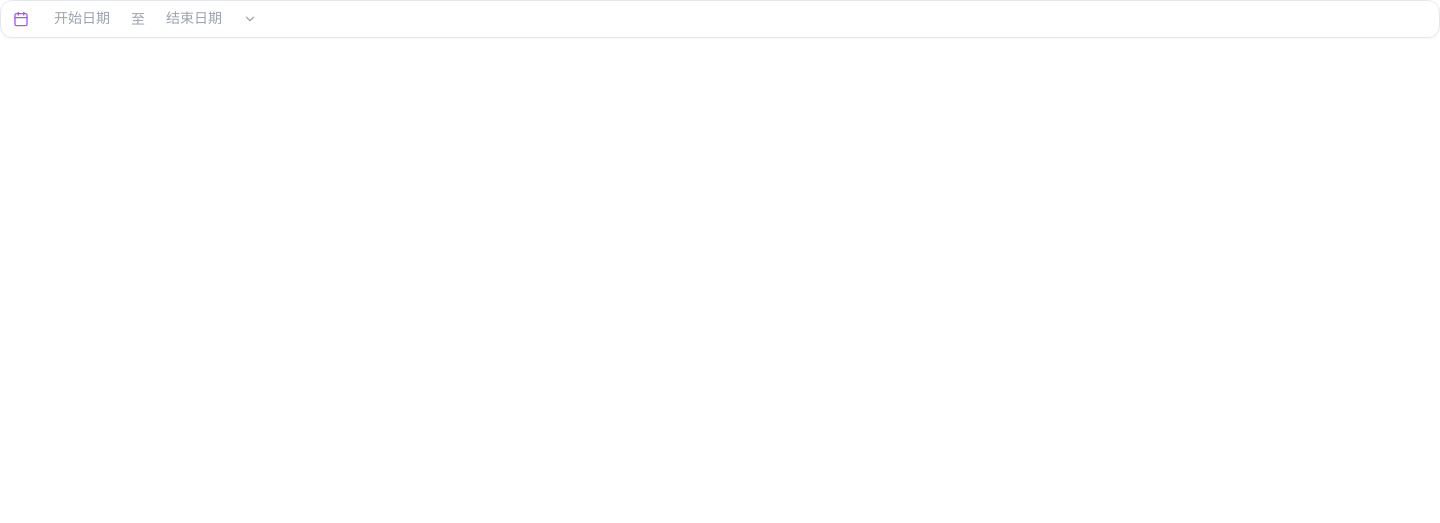
Test case: DateRangePicker › opens dropdown calendar on click and allows selecting presets
The image size is (1440, 523).
Later steps or results of the test are not shown.
Click input to open calendar popover
Step 1. Click the field titled "开始日期" → (82, 19), box [37,9,127,29]
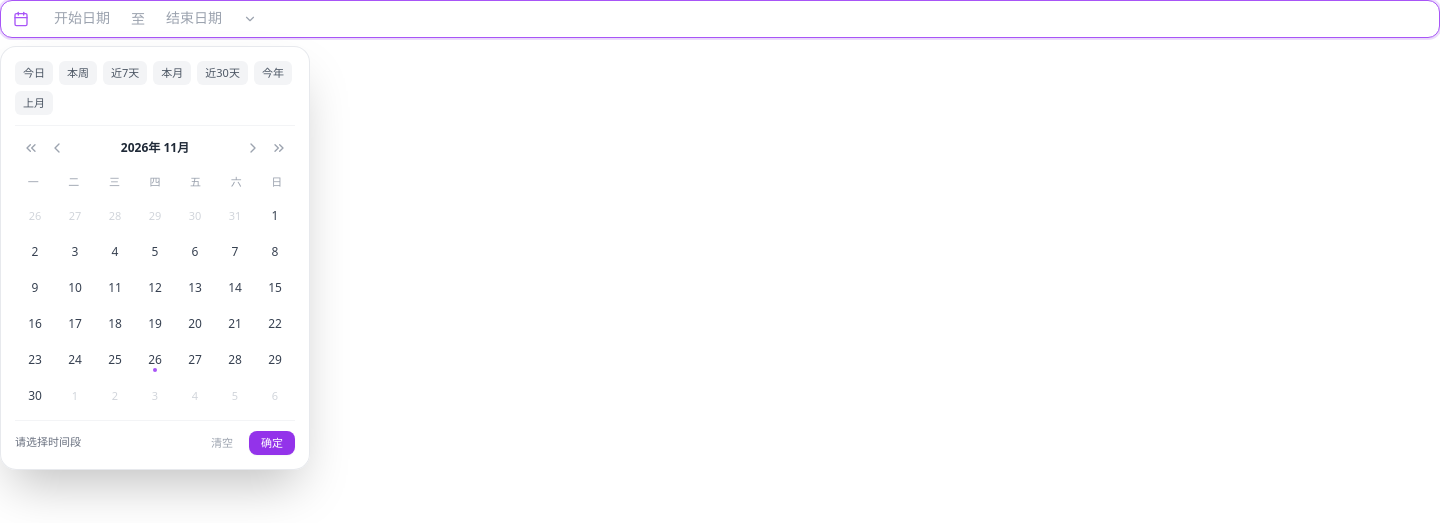
expect the button "今日" is shown: met, box [15,61,53,85]
expect the button "近7天" is shown: met, box [103,61,147,85]
